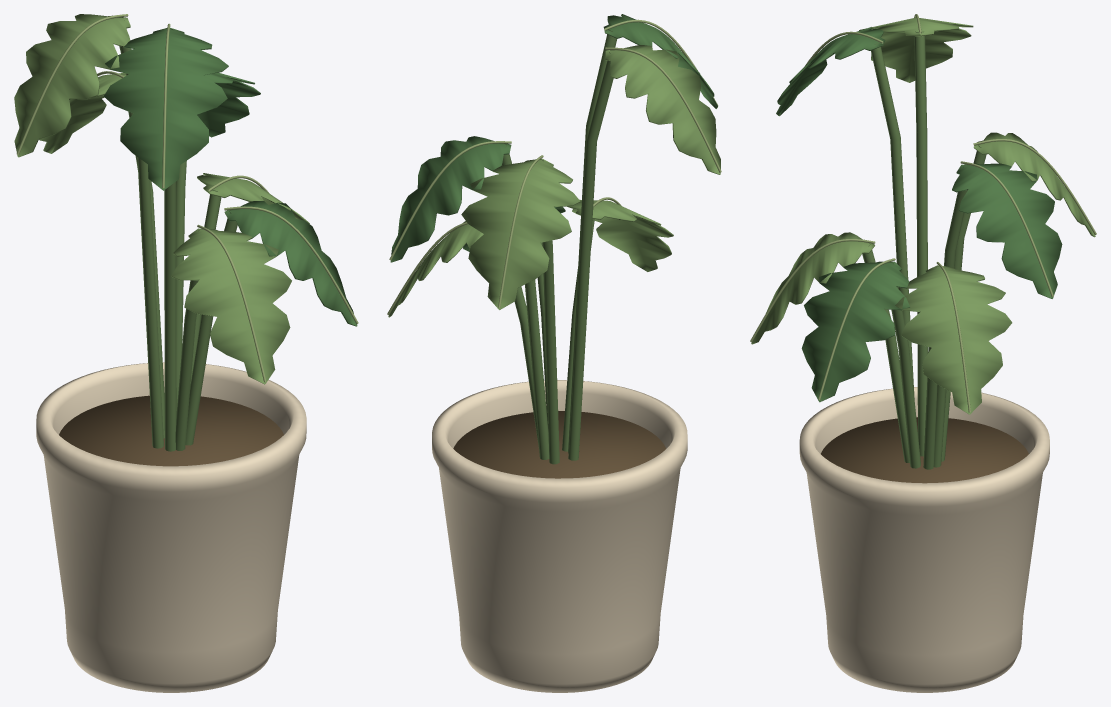
File: plant.glb
3 renders of one model, left to right at view 1: azimuth 30°, elevation 25°; view 2: azimuth 150°, elevation 25°; view 3: azimuth 270°, elevation 25°, orthographic. The views are drawn at different scales.
Parts seen in each view (by area): view 1: plant__Dye_Main_plant, plant__Leaf_sage, plant__Leaf_forest, plant__Live_stems, plant__Potting_soil, plant__Leaf_vein; view 2: plant__Dye_Main_plant, plant__Leaf_sage, plant__Live_stems, plant__Potting_soil, plant__Leaf_forest, plant__Leaf_vein; view 3: plant__Dye_Main_plant, plant__Leaf_sage, plant__Leaf_forest, plant__Live_stems, plant__Potting_soil, plant__Leaf_vein.
Part boxes in pixels (x1,y1,x2,y2): plant__Dye_Main_plant: (36, 362, 306, 692); plant__Leaf_sage: (14, 14, 309, 384); plant__Leaf_forest: (103, 27, 357, 326); plant__Live_stems: (118, 17, 237, 451); plant__Potting_soil: (59, 395, 283, 466); plant__Leaf_vein: (16, 14, 358, 382); plant__Dye_Main_plant: (432, 380, 687, 692); plant__Leaf_sage: (388, 45, 720, 317); plant__Live_stems: (501, 29, 616, 464); plant__Potting_soil: (453, 411, 666, 478); plant__Leaf_forest: (390, 14, 717, 262); plant__Leaf_vein: (387, 19, 721, 315); plant__Dye_Main_plant: (799, 387, 1049, 692); plant__Leaf_sage: (751, 17, 1095, 414); plant__Leaf_forest: (776, 27, 1062, 402); plant__Live_stems: (862, 31, 986, 469); plant__Potting_soil: (821, 417, 1028, 483); plant__Leaf_vein: (750, 14, 1096, 412).
Size of the model in its own units: 0.691 by 1.34 by 0.6991.
